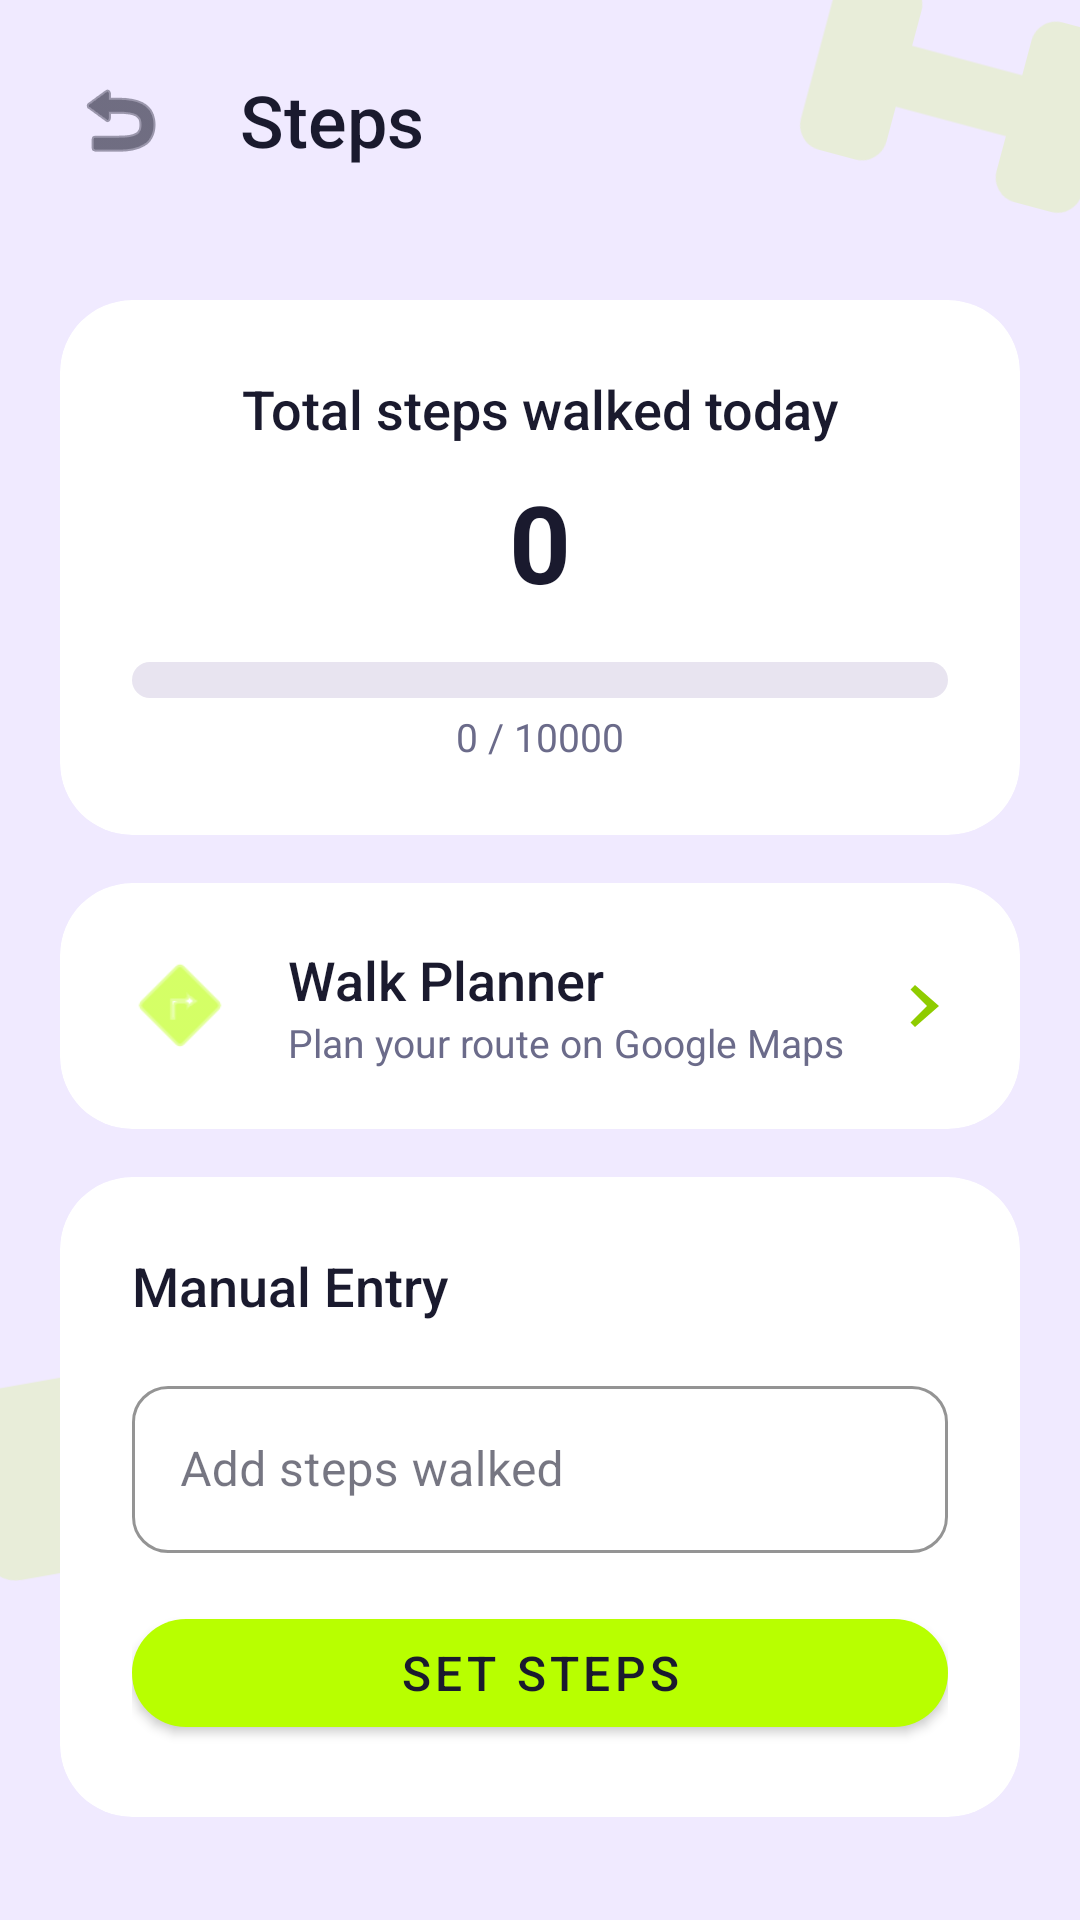

Where icons sit on this 1080px x 1920px app screen, as (x1, y1, x2, y2):
arrow right: (910, 985, 939, 1027)
directions: (139, 964, 221, 1046)
revert: (87, 89, 156, 152)
